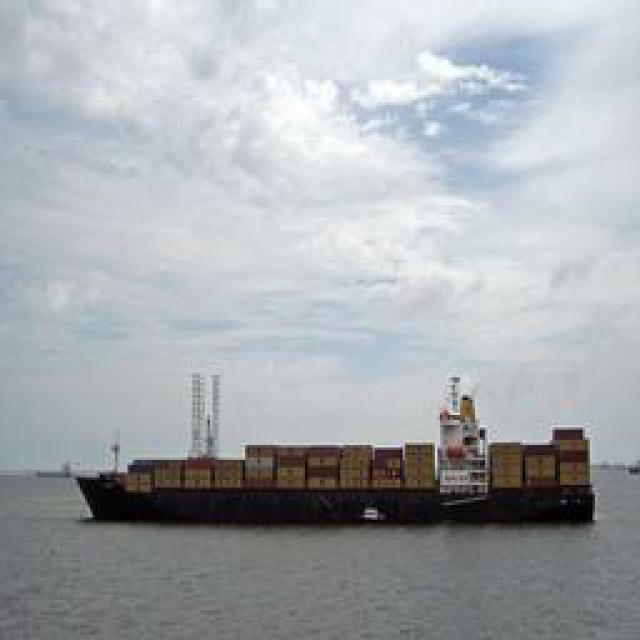Ship: (72, 401, 605, 529)
